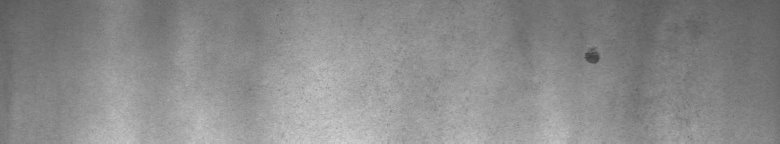fi: (581, 40, 604, 72)
